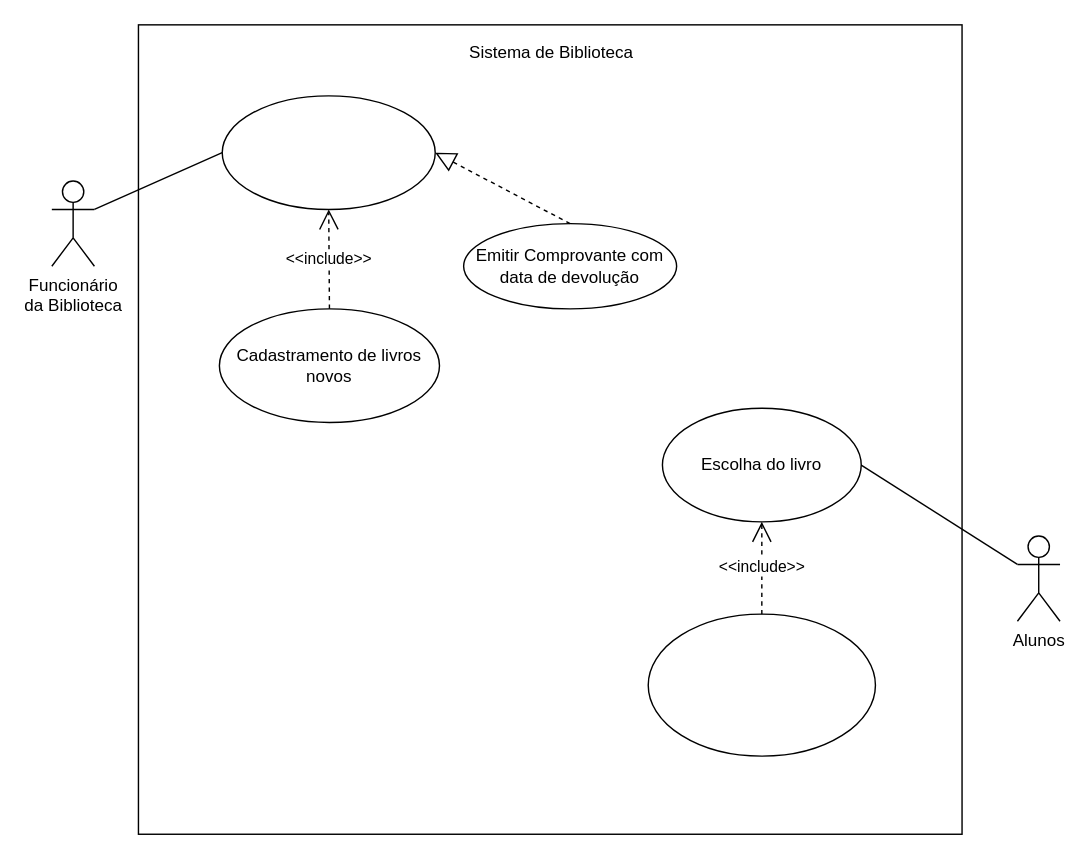
Some shapes in this 1089 by 859 pixel diagram are drawn without their labels. Here are the shapes that lost their labels. From the top down, the box of each, then its label:
(221, 94, 435, 209): Empréstimos de livros
(647, 613, 875, 756): Escolher outro livro ou cancelar o empréstimo
